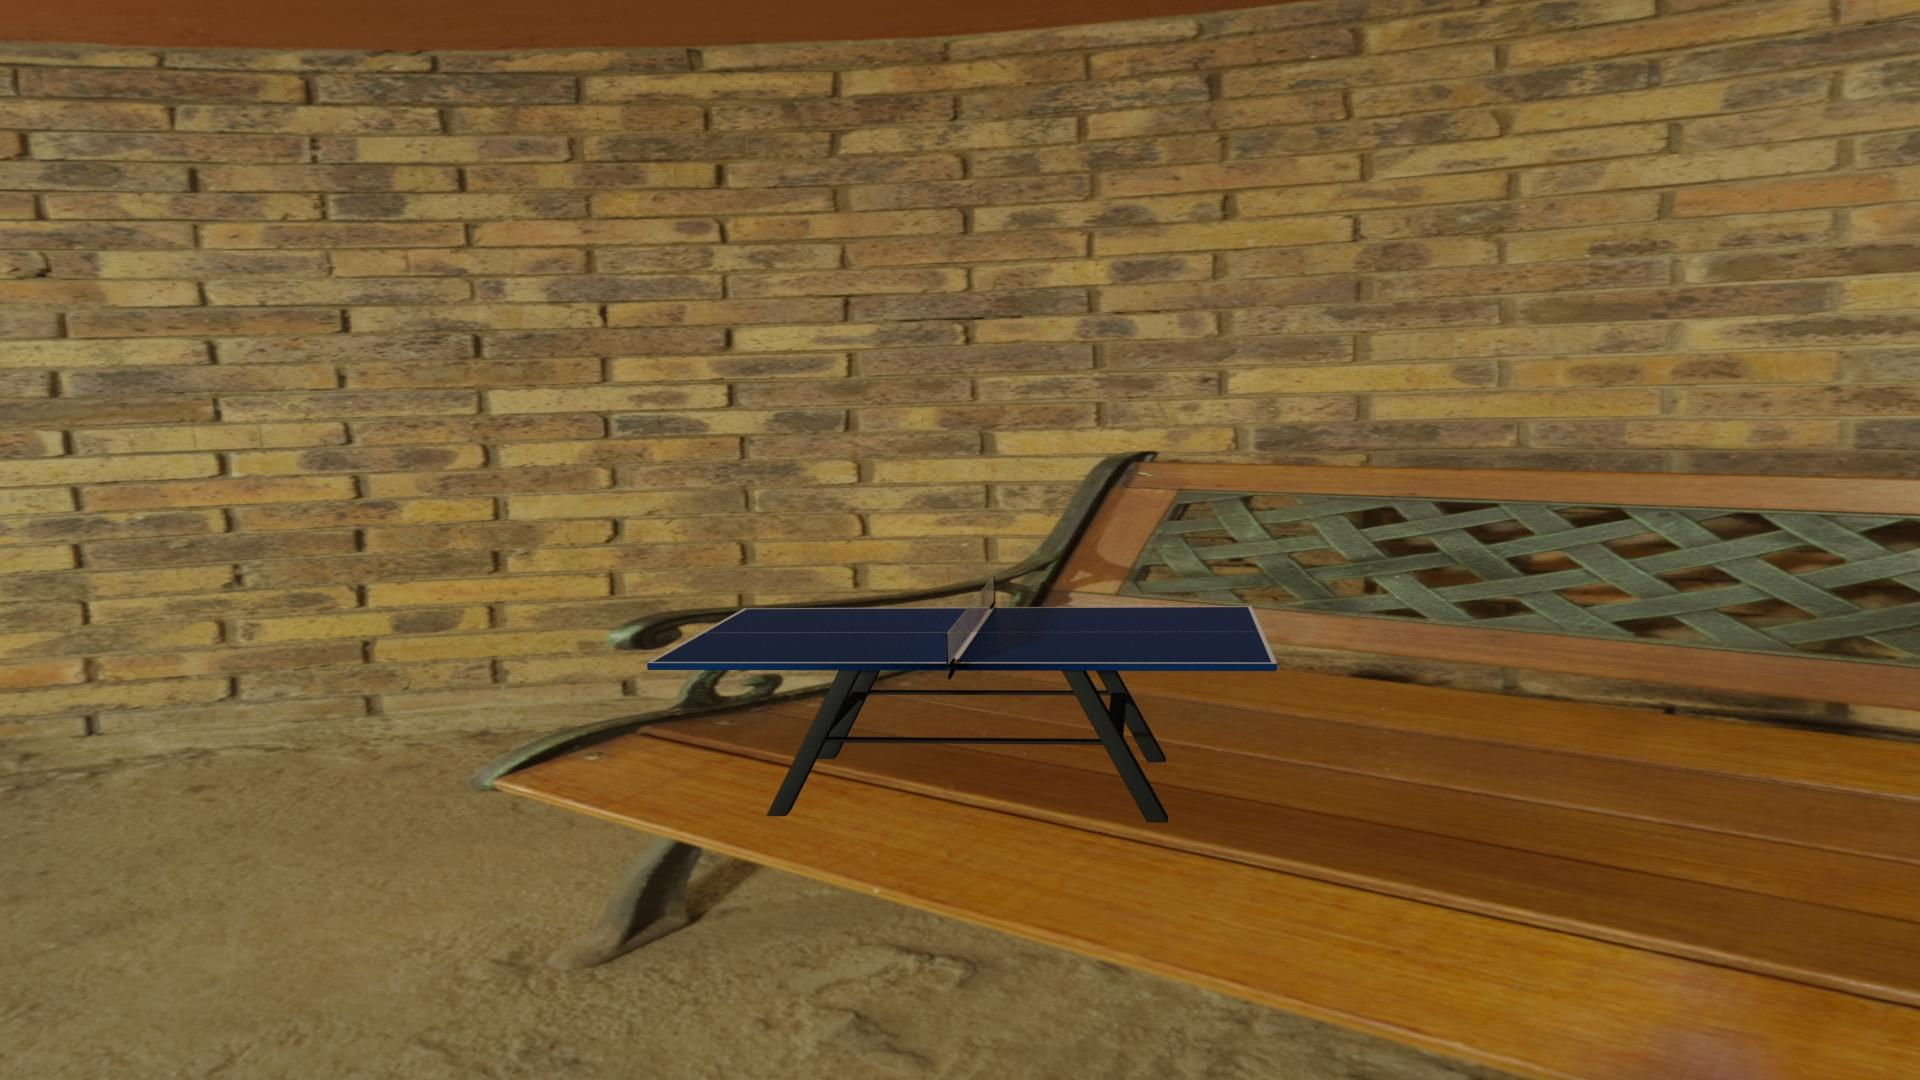table: (653, 607, 1271, 662)
